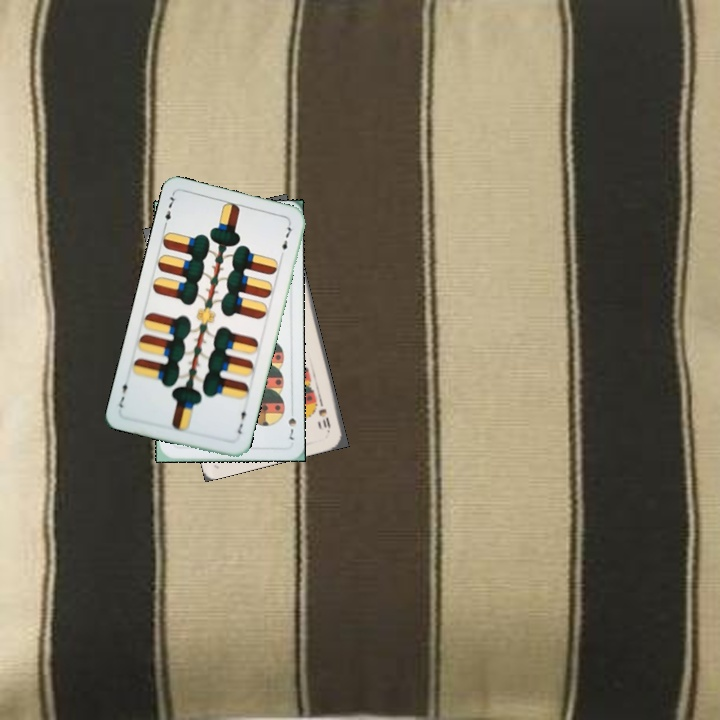E7: (160, 190, 179, 230), (233, 403, 250, 437)
S10: (315, 395, 333, 435)
S7: (284, 414, 298, 442)
